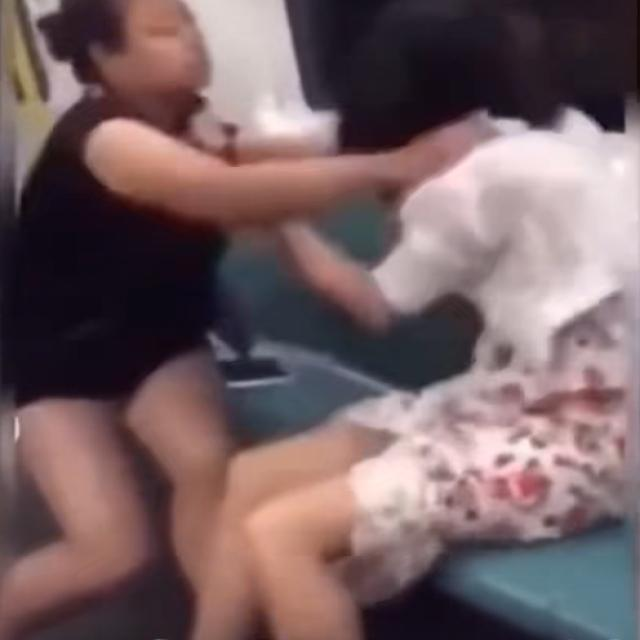fight: (13, 10, 587, 368)
